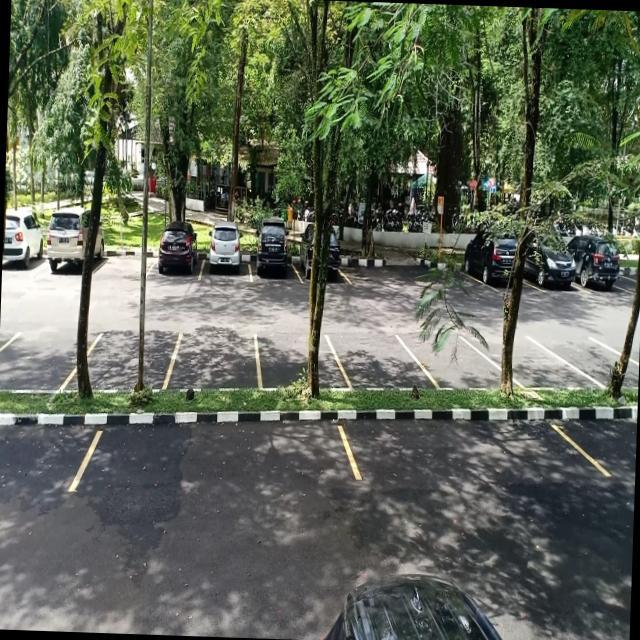empty: (68, 406, 357, 506), (338, 405, 595, 497), (0, 327, 95, 394), (85, 326, 177, 394), (167, 330, 260, 393), (334, 332, 422, 397), (253, 331, 339, 392), (420, 332, 502, 391), (508, 334, 581, 396), (98, 234, 156, 278)
occupied: (44, 206, 104, 276), (462, 226, 516, 293), (198, 221, 255, 282), (150, 223, 206, 282), (249, 220, 300, 284)
